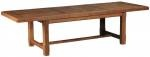obstacle: (0, 0, 149, 55)
